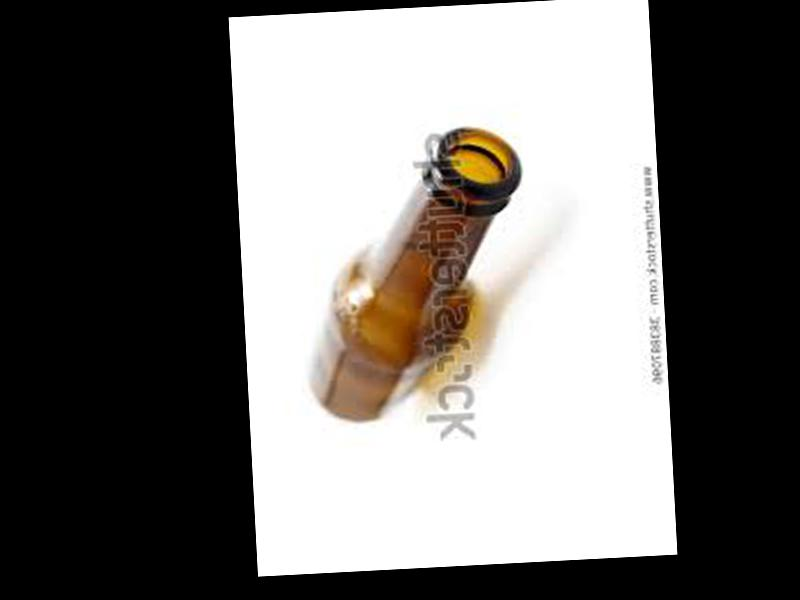Beer: (297, 123, 536, 425)
